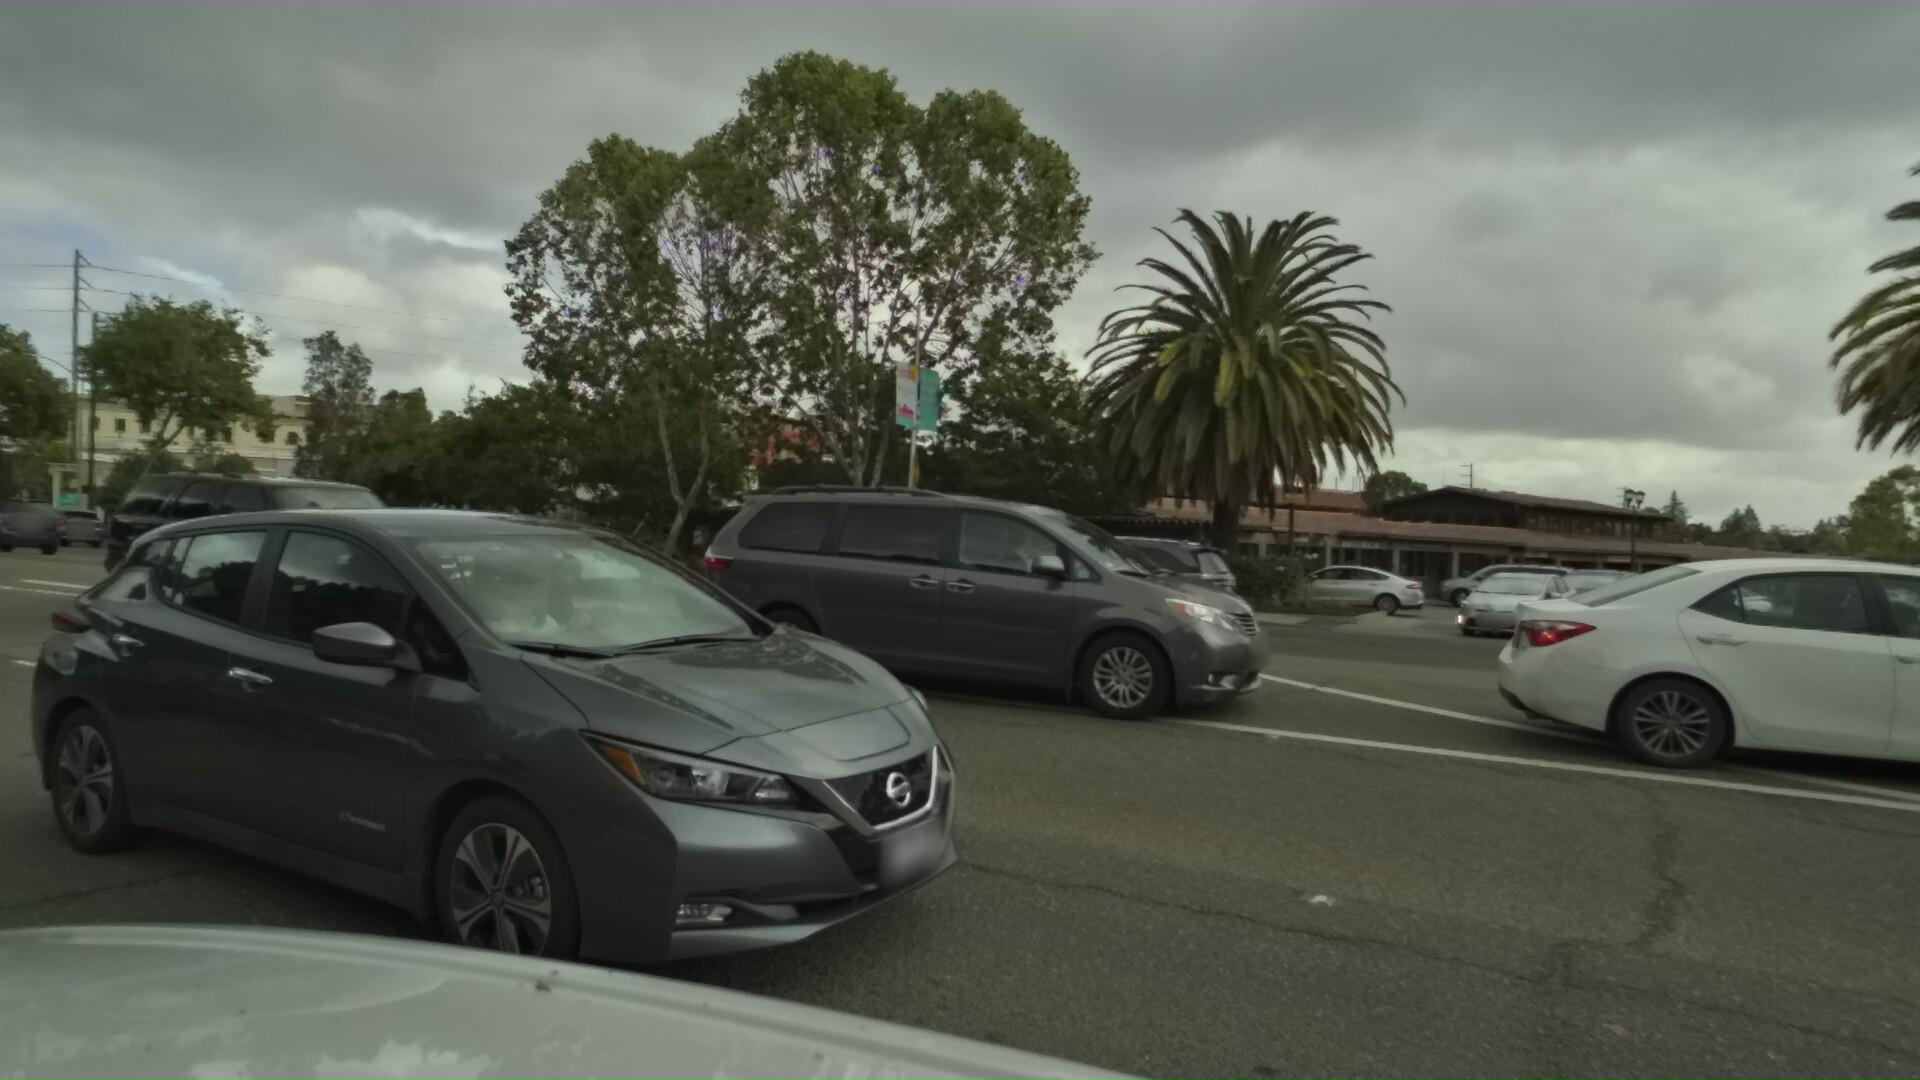car: (15, 454, 1112, 1080), (676, 471, 1295, 736), (1478, 529, 1920, 844), (78, 460, 498, 647), (928, 522, 1232, 644), (986, 550, 1209, 633), (365, 508, 564, 592), (1440, 560, 1592, 644), (476, 524, 644, 588), (1523, 560, 1667, 630), (1261, 563, 1422, 624), (9, 506, 109, 553), (0, 496, 65, 560)
truck: (0, 161, 59, 731)
